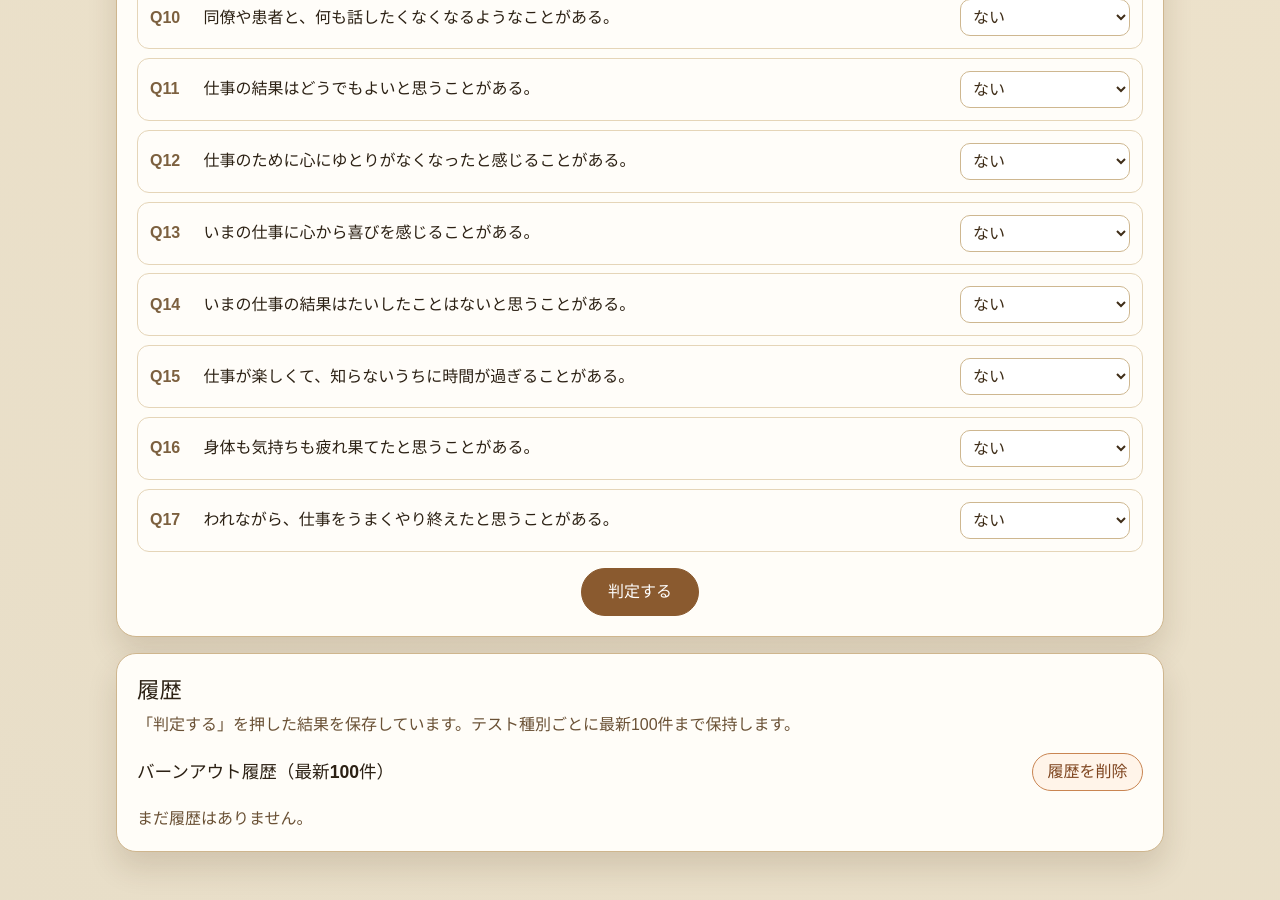
Test: App › shows results only after clicking the calculate button and shows only burnout history on burnout tab
(page scrolled)
Expected: the heading "情緒的消耗感" is not shown
Click the button "判定する" at coordinates (640, 592), box [581, 568, 699, 616]
(page scrolled)
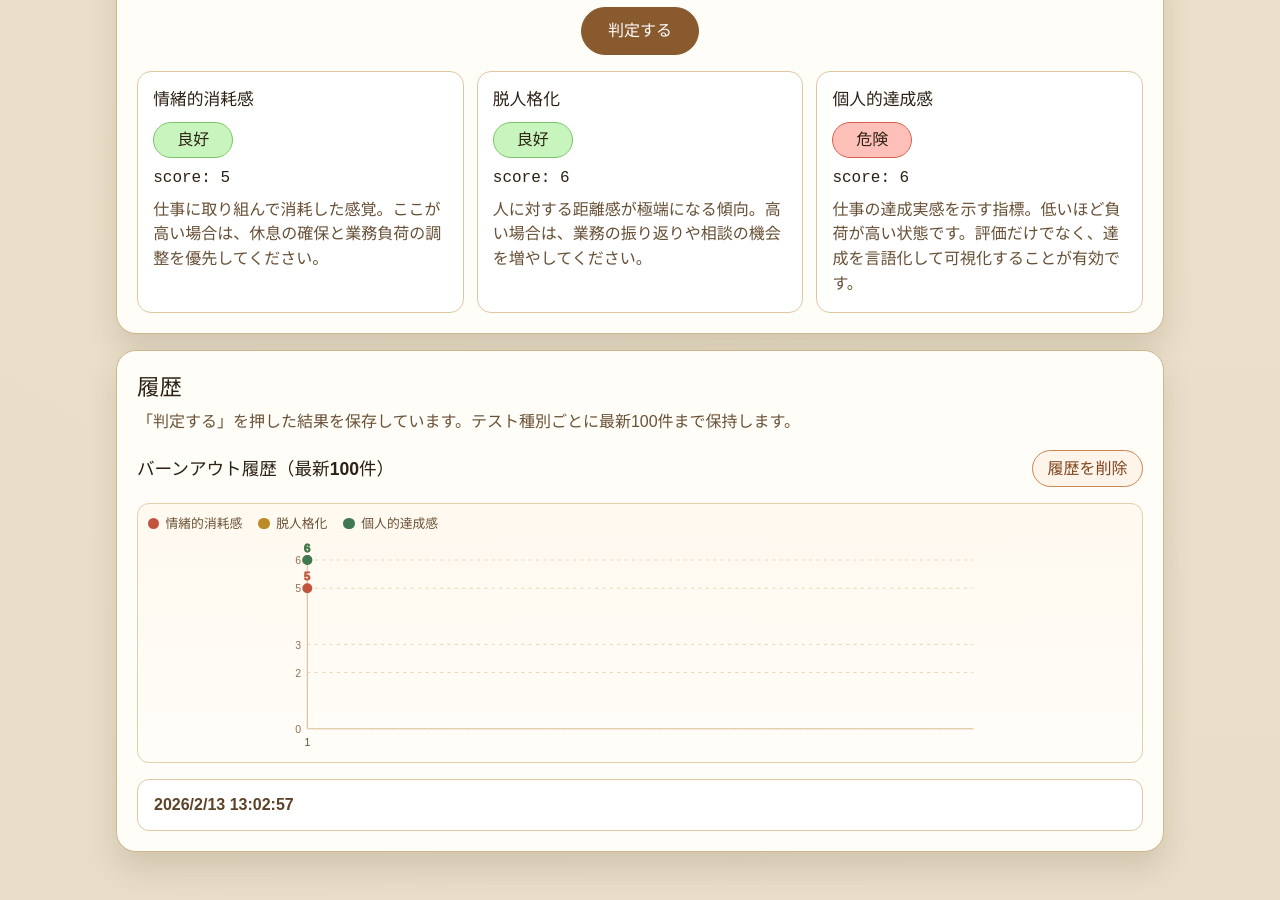
Expected: the heading "バーンアウト履歴（最新100件）" is shown, [137, 456, 394, 482]
Now the heading "情緒的消耗感" is shown, box [153, 90, 254, 109]
Now the number of list items with class "history-item" is 1, box [137, 779, 1143, 831]
